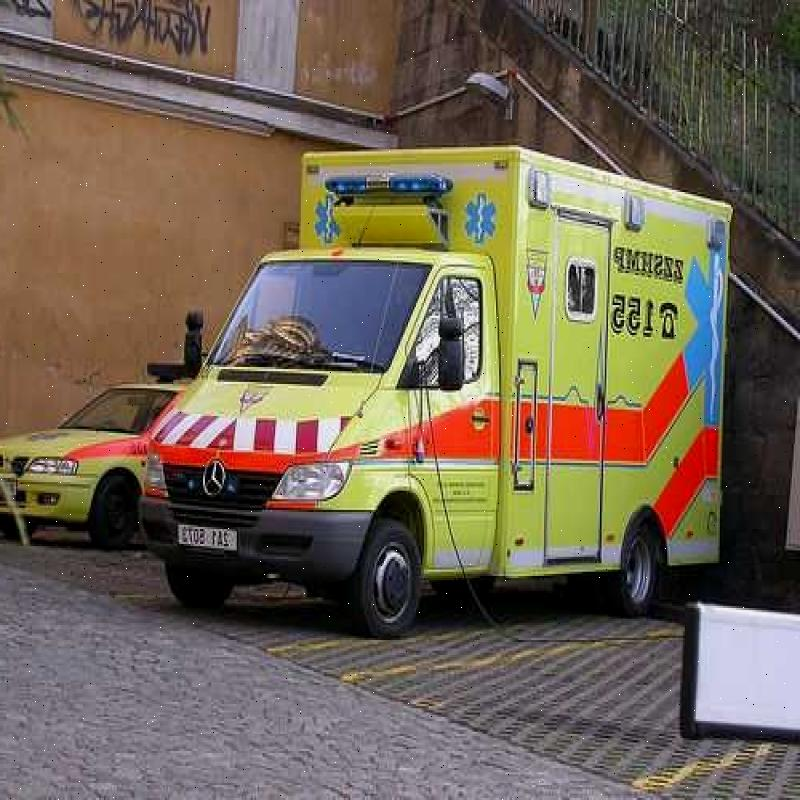AmbulanceSiren: (307, 160, 457, 245)
